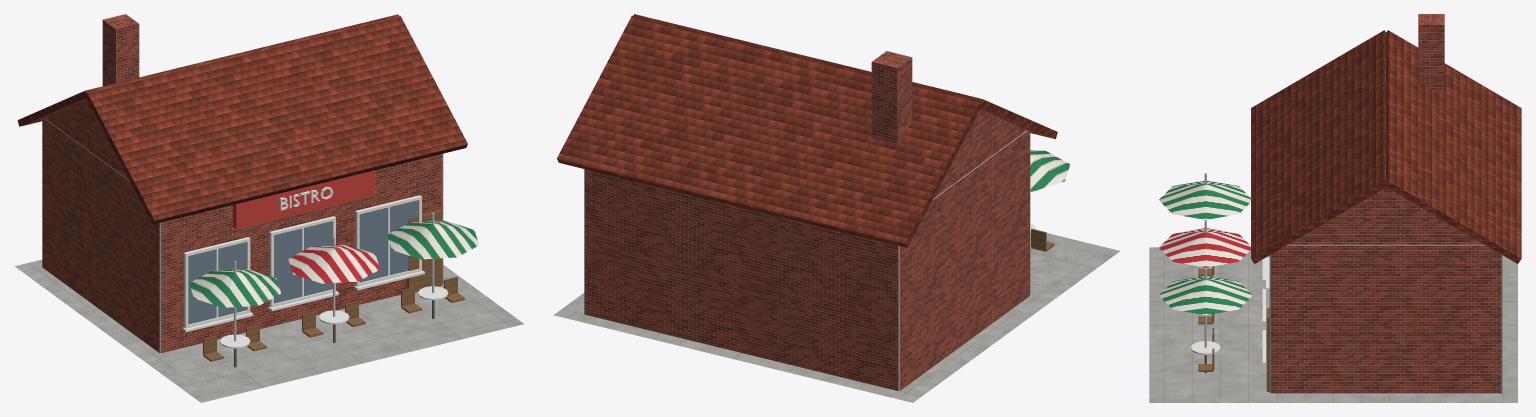
File: restaurant_0.gltf
The picture shows the model from 3 angles, left to right: view 1: azimuth 30°, elevation 25°; view 2: azimuth 150°, elevation 25°; view 3: azimuth 270°, elevation 25°; orthographic projection. The views are drawn at different scales.
Parts seen in each view (by area): view 1: restaurant_0; view 2: restaurant_0; view 3: restaurant_0.
Boxes of the visible parts, left/top/right/bottom form: restaurant_0: left=15, top=14, right=523, bottom=402; restaurant_0: left=553, top=14, right=1119, bottom=402; restaurant_0: left=1149, top=14, right=1521, bottom=402.
Bounding box in the file's own units: 1.96 × 1.52 × 1.98.
Materials: 12 (6 with a texture image).
